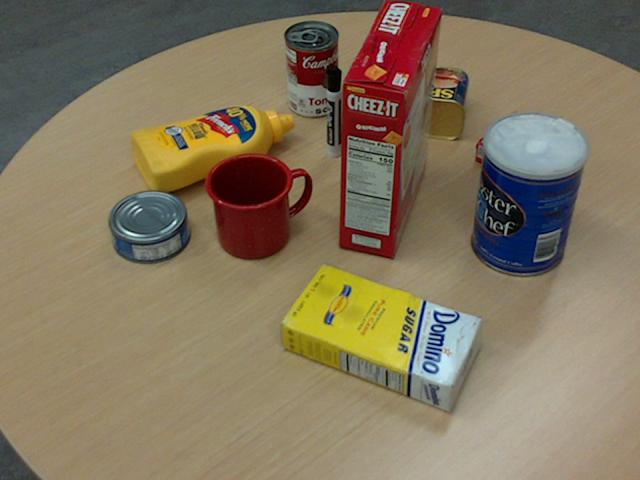cracker_box: (338, 0, 442, 257)
gelatin_box: (475, 109, 565, 181)
large_marker: (325, 65, 341, 156)
master_chef_can: (470, 112, 587, 277)
mug: (203, 152, 310, 258)
mustard_bottle: (129, 104, 294, 192)
potted_meat_can: (382, 63, 468, 139)
sugar_box: (277, 264, 483, 412)
tomato_soup_can: (285, 18, 339, 115)
tuna_fish_can: (107, 189, 188, 262)
